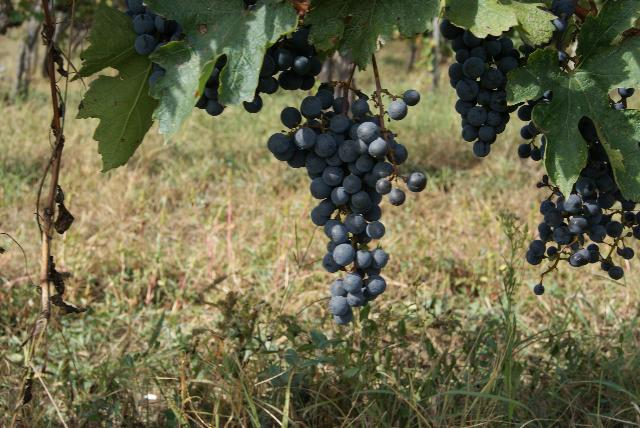grapes: (268, 86, 408, 325)
